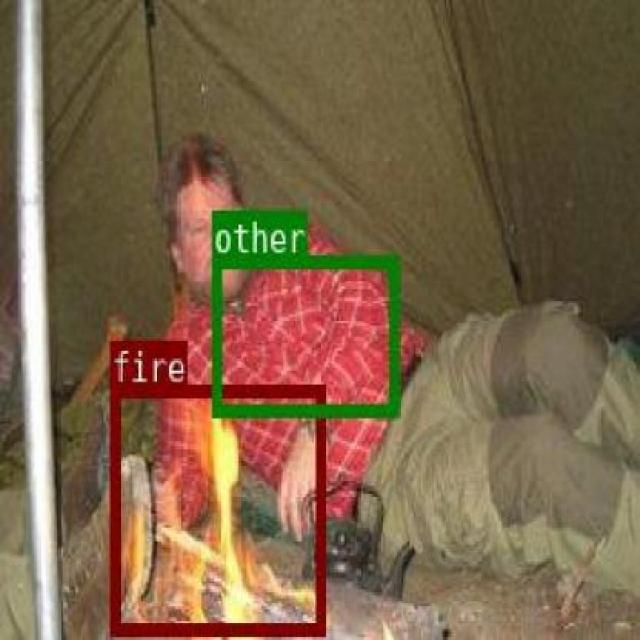Fire: (109, 383, 323, 632)
